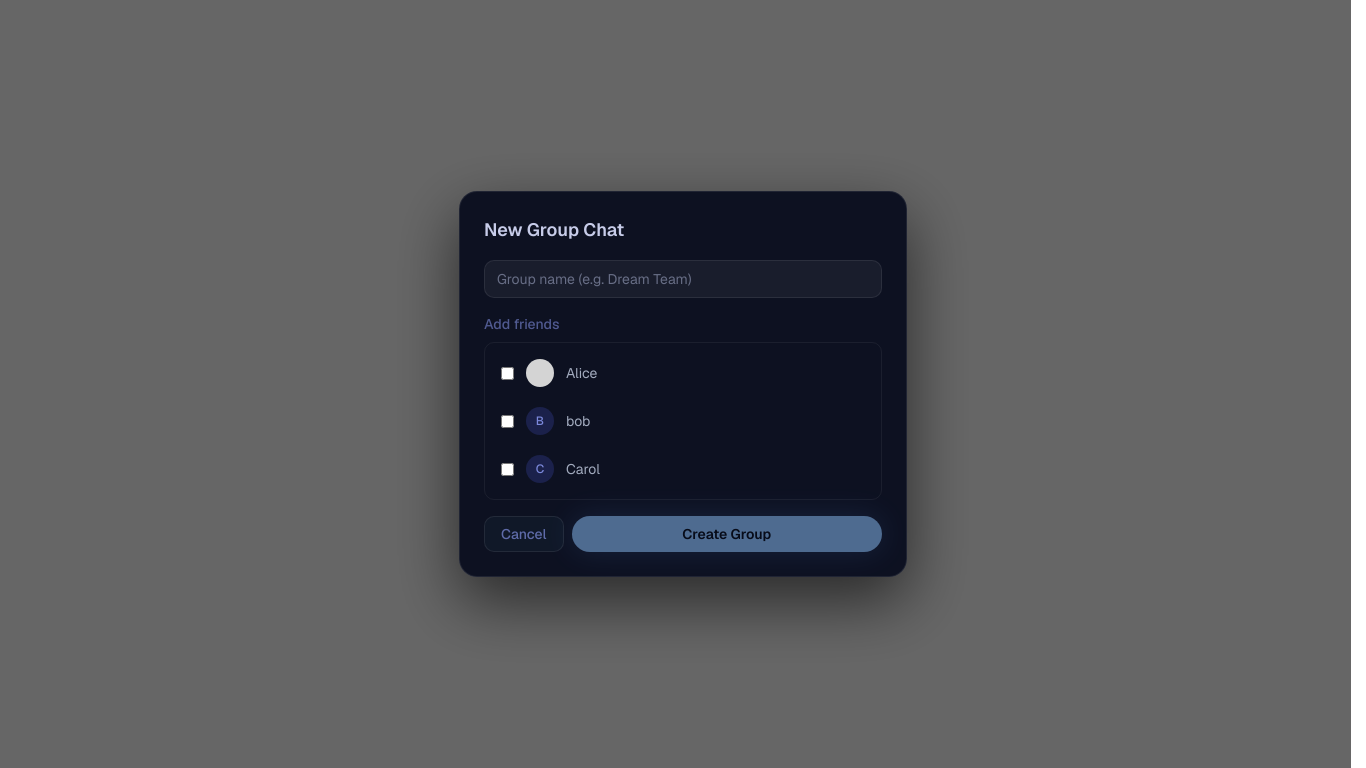
Test case: CreateGroupModal – duplicate detection › shows the duplicate warning when the API returns a stale conversation
The width and height of the screenshot is (1366, 768).
Type "Squad" into the field with placeholder "Group name (e.g. Dream Team)" at (683, 279), box [484,260,882,298]
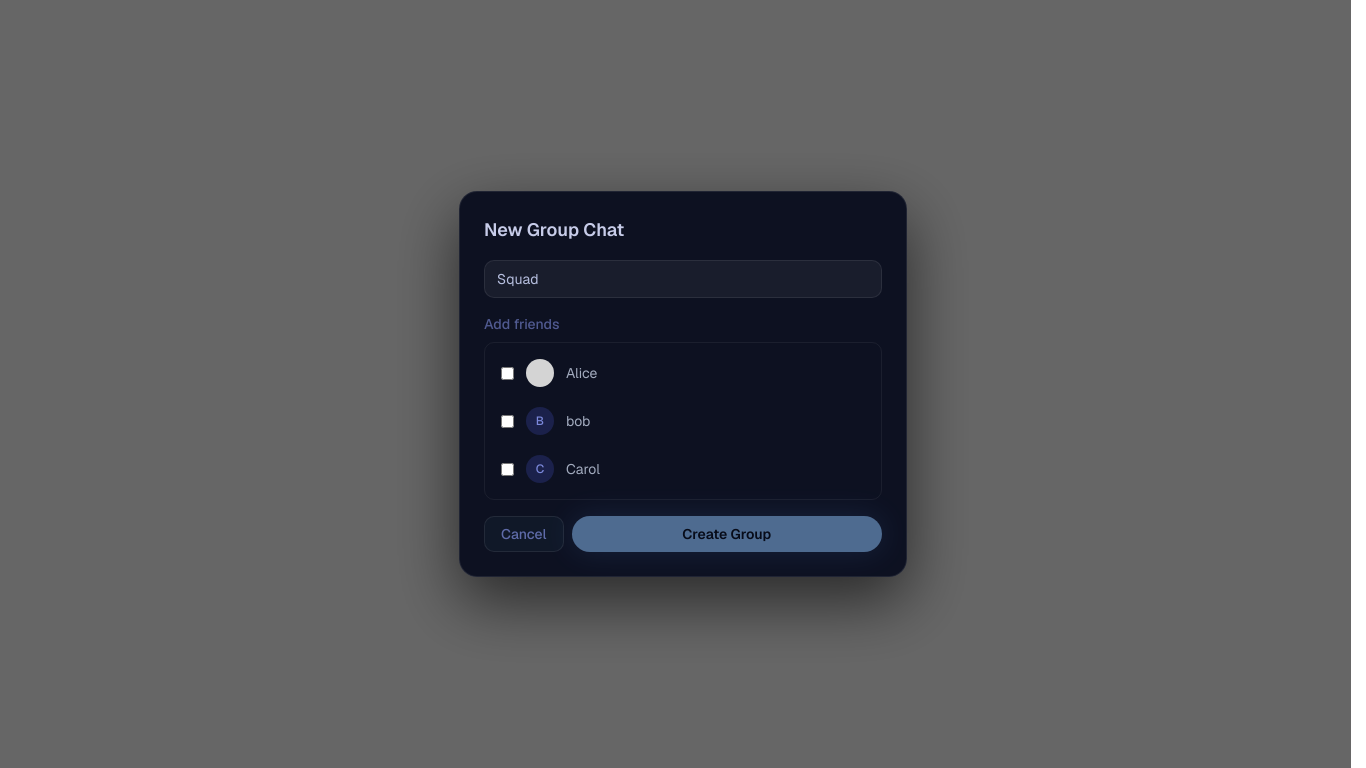
Click the text "Alice" at (549, 373), box [501,359,597,387]
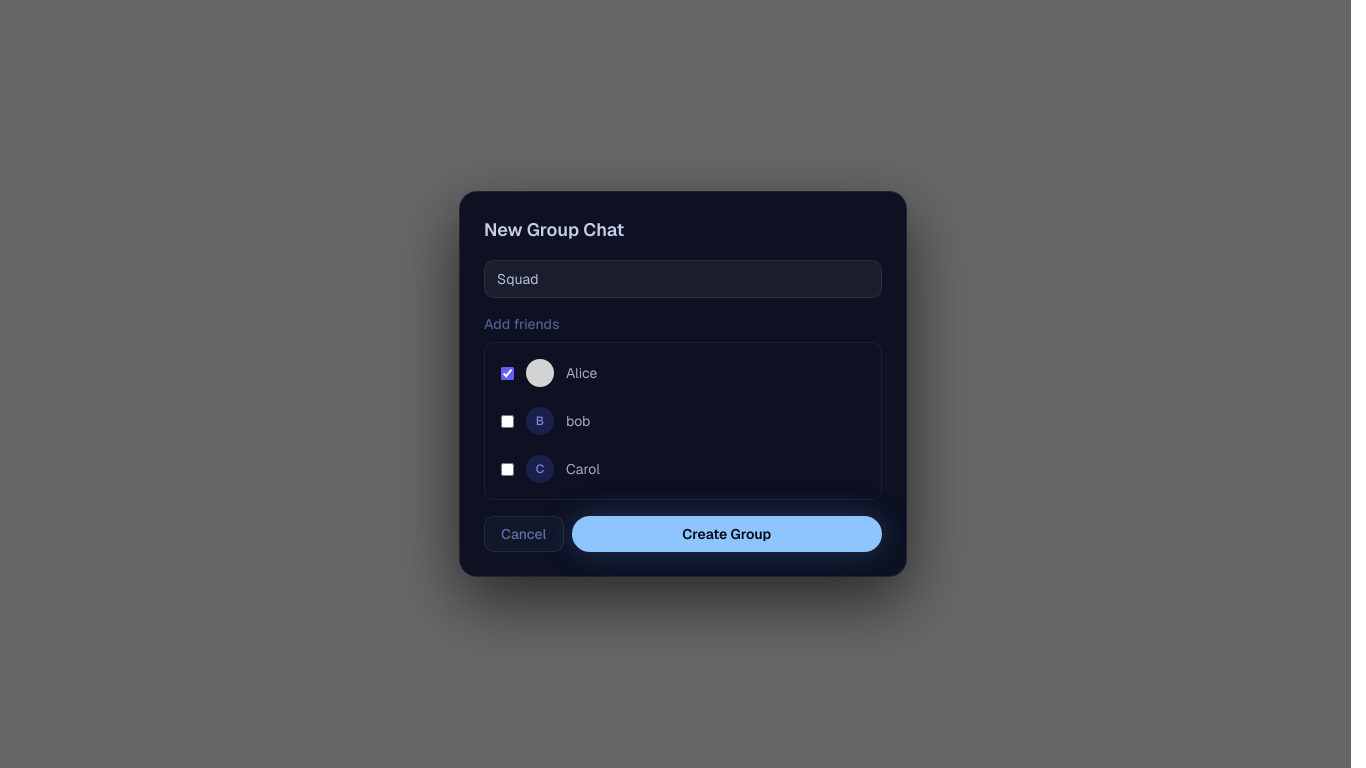
Click the button "Create Group" at (727, 534), box [572,516,882,552]
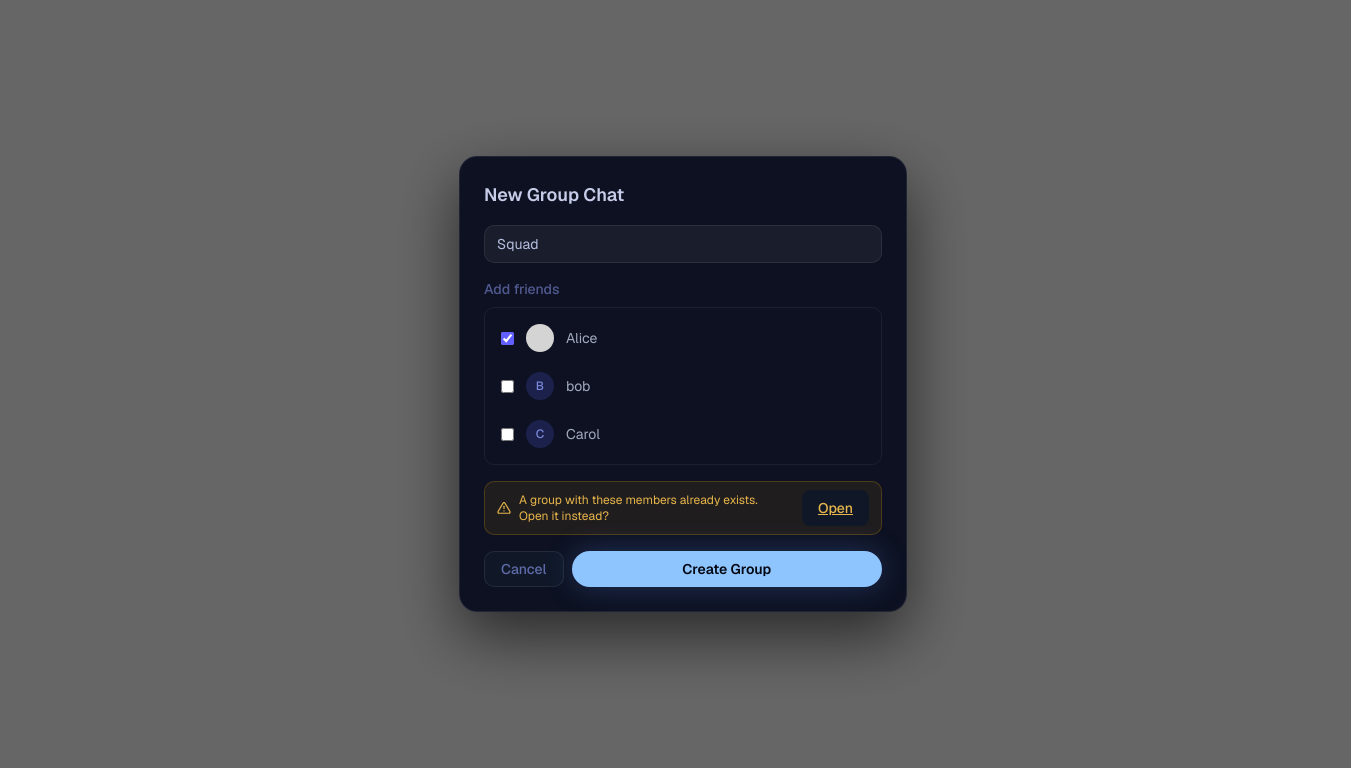
Expected: the text "already exists" is shown, [519,492,758,524]
